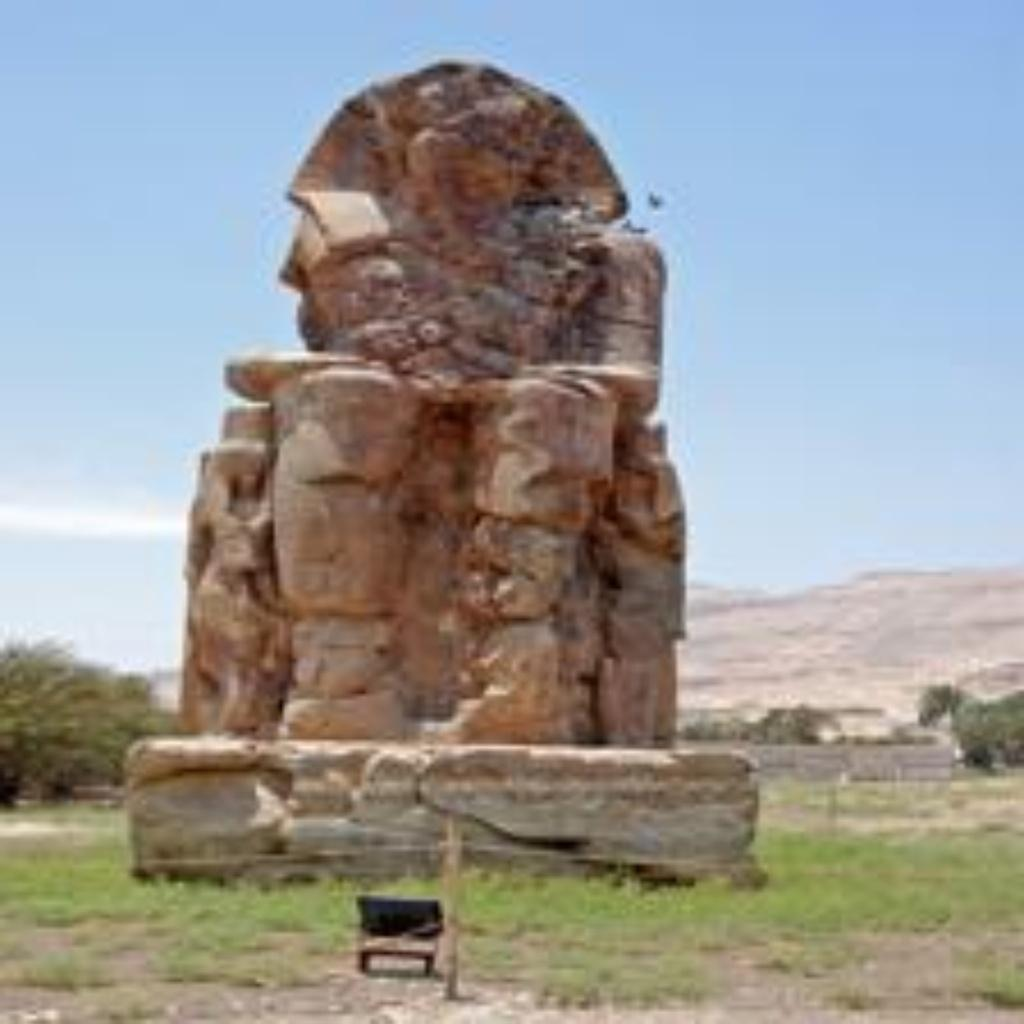Colossoi of Memnon: (118, 50, 764, 887)
